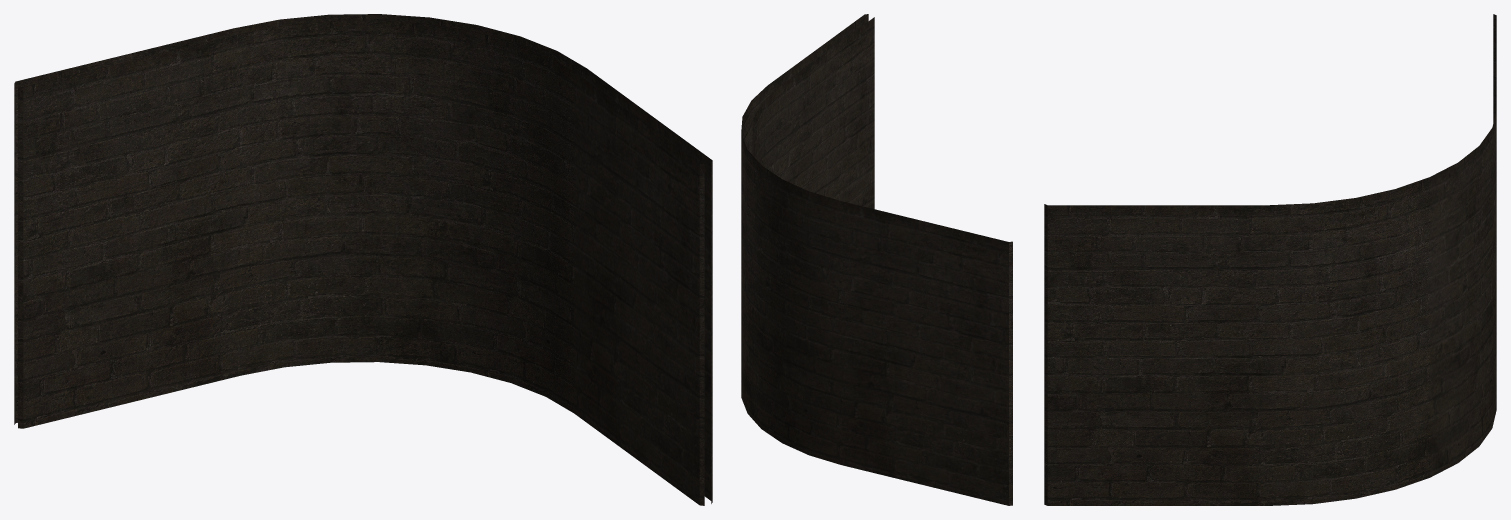
Rendered from wall_1_rounded_corner.glb.
3 renders of one model, left to right at view 1: azimuth 30°, elevation 25°; view 2: azimuth 150°, elevation 25°; view 3: azimuth 270°, elevation 25°, orthographic. The views are drawn at different scales.
Parts seen in each view (by area): view 1: wall_1_rounded_corner; view 2: wall_1_rounded_corner; view 3: wall_1_rounded_corner.
Boxes of the visible parts, x1=… form: wall_1_rounded_corner: x1=14, y1=14, x2=712, y2=505; wall_1_rounded_corner: x1=741, y1=14, x2=1012, y2=505; wall_1_rounded_corner: x1=1044, y1=14, x2=1496, y2=505.
Size of the model in its own units: 4.09 by 3 by 4.09.
1 material, 1 textured.
